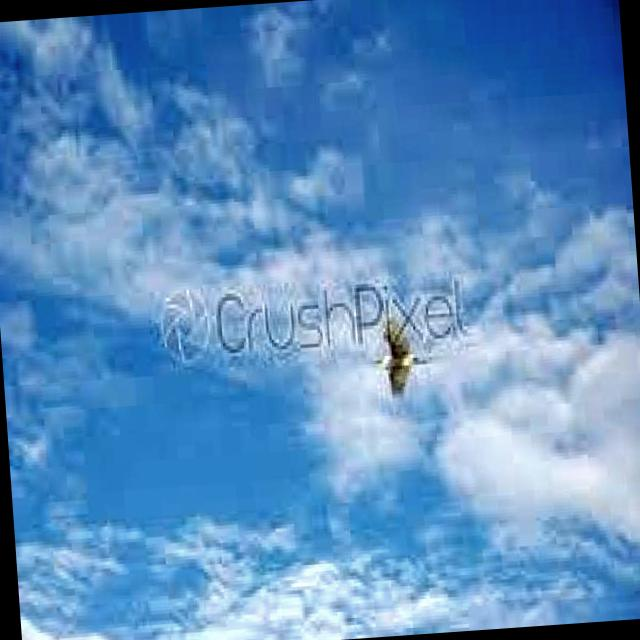bird: (374, 313, 443, 409)
